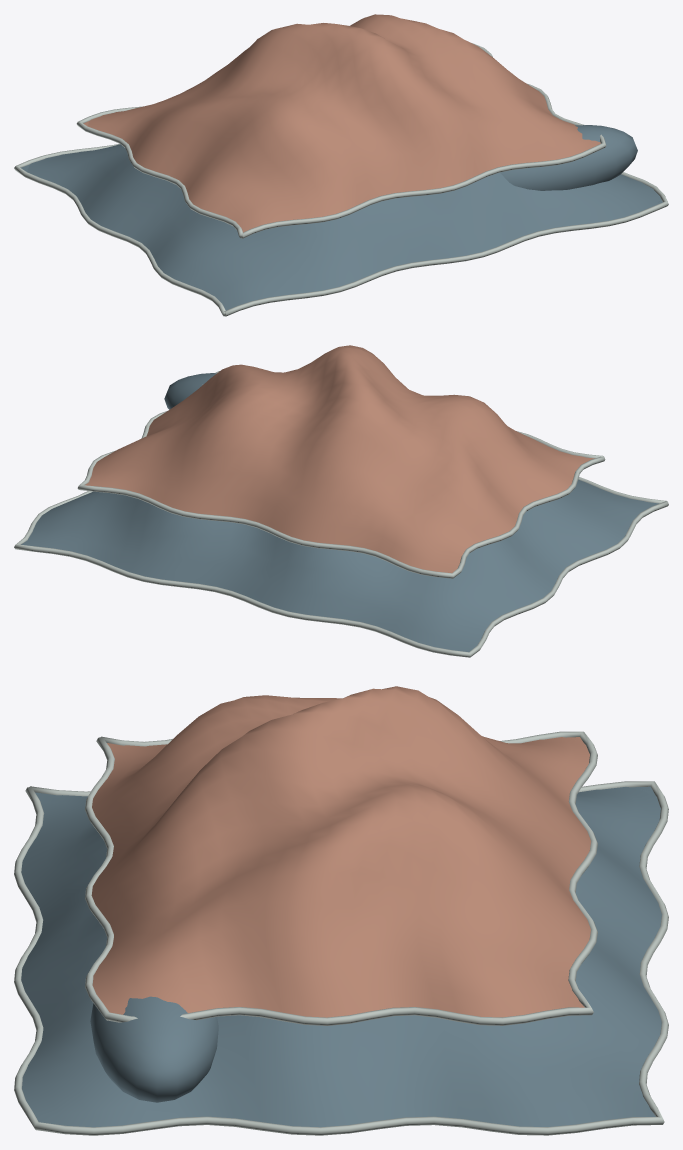
The model's file is crumpled-laundry.glb.
The picture shows the model from 3 angles, top to bottom: view 1: azimuth 30°, elevation 25°; view 2: azimuth 150°, elevation 25°; view 3: azimuth 270°, elevation 25°; orthographic projection. The views are drawn at different scales.
Visible parts, largest first — view 1: Crumpled cotton garment.003, Crumpled cotton garment.002, Rolled garment hem.002, Rolled sock.001, Rolled garment hem.003; view 2: Crumpled cotton garment.003, Crumpled cotton garment.002, Rolled garment hem.002, Rolled garment hem.003, Rolled sock.001; view 3: Crumpled cotton garment.003, Crumpled cotton garment.002, Rolled garment hem.002, Rolled sock.001, Rolled garment hem.003.
Part boxes in pixels (x1,y1,x2,y2): Crumpled cotton garment.003: (83, 14, 600, 232); Crumpled cotton garment.002: (21, 144, 662, 310); Rolled garment hem.002: (14, 143, 668, 316); Rolled sock.001: (500, 125, 637, 190); Rolled garment hem.003: (76, 43, 606, 238); Crumpled cotton garment.003: (85, 345, 594, 572); Crumpled cotton garment.002: (21, 479, 658, 651); Rolled garment hem.002: (14, 477, 668, 657); Rolled garment hem.003: (77, 371, 605, 578); Rolled sock.001: (164, 373, 216, 409); Crumpled cotton garment.003: (91, 686, 590, 1017); Crumpled cotton garment.002: (21, 786, 661, 1127); Rolled garment hem.002: (14, 781, 668, 1135); Rolled sock.001: (90, 996, 218, 1102); Rolled garment hem.003: (85, 731, 597, 1025).
Size of the model in its own units: 0.584 by 0.2002 by 0.4618.
